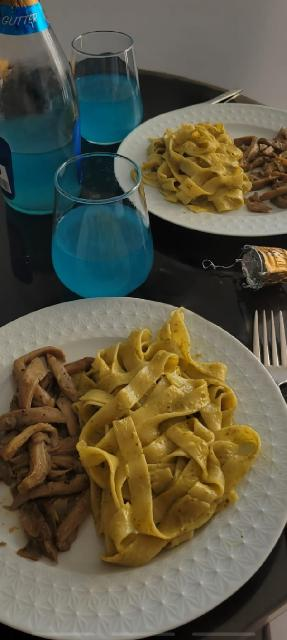Organik: (2, 329, 240, 571), (146, 123, 287, 219)
